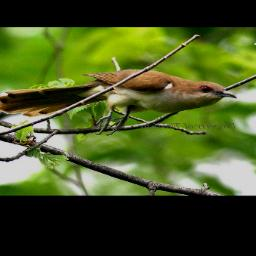Cuckoo: (0, 69, 238, 135)
